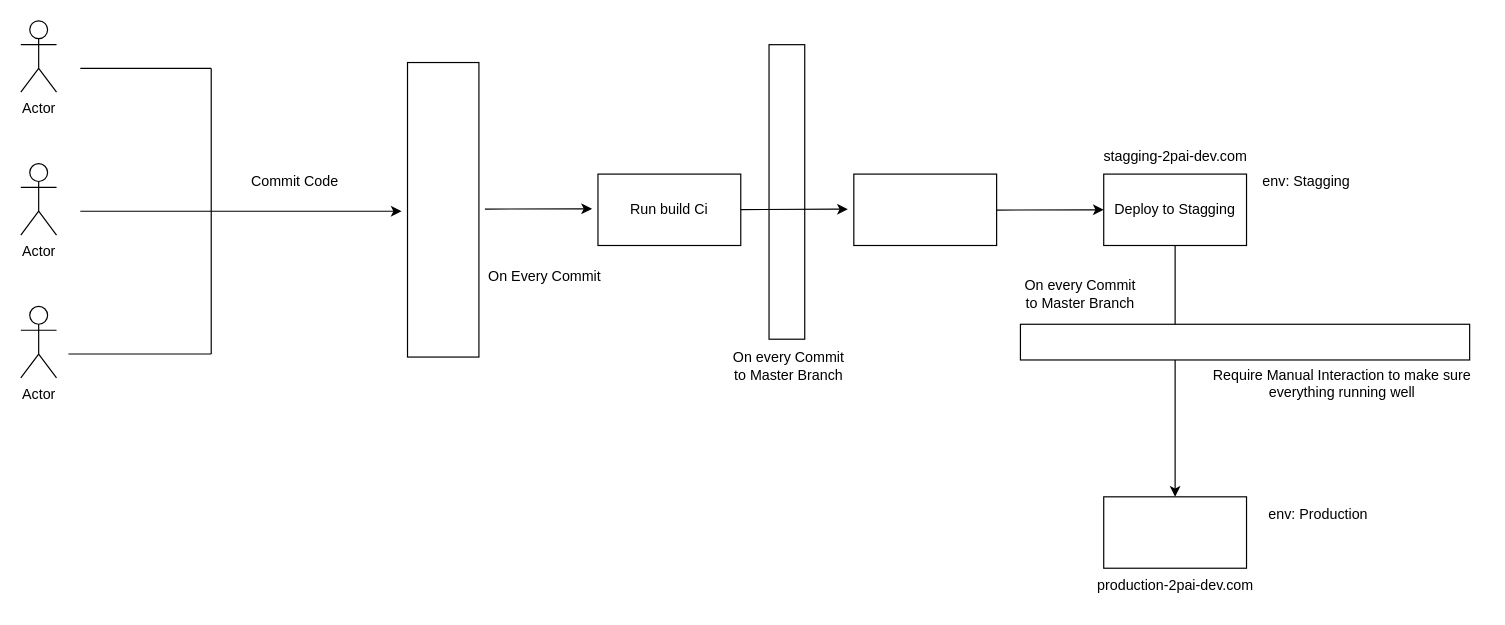
Some shapes in this 1505 by 625 pixel diagram are drawn without their labels. The shapes that lost their labels are listed below. From the top down, each one's box as (x1, y1, x2, y2) in pixels, then its label:
(406, 61, 479, 357): GitLab
(853, 173, 997, 245): Build Docker images
(1103, 496, 1247, 568): Deploy to Production
